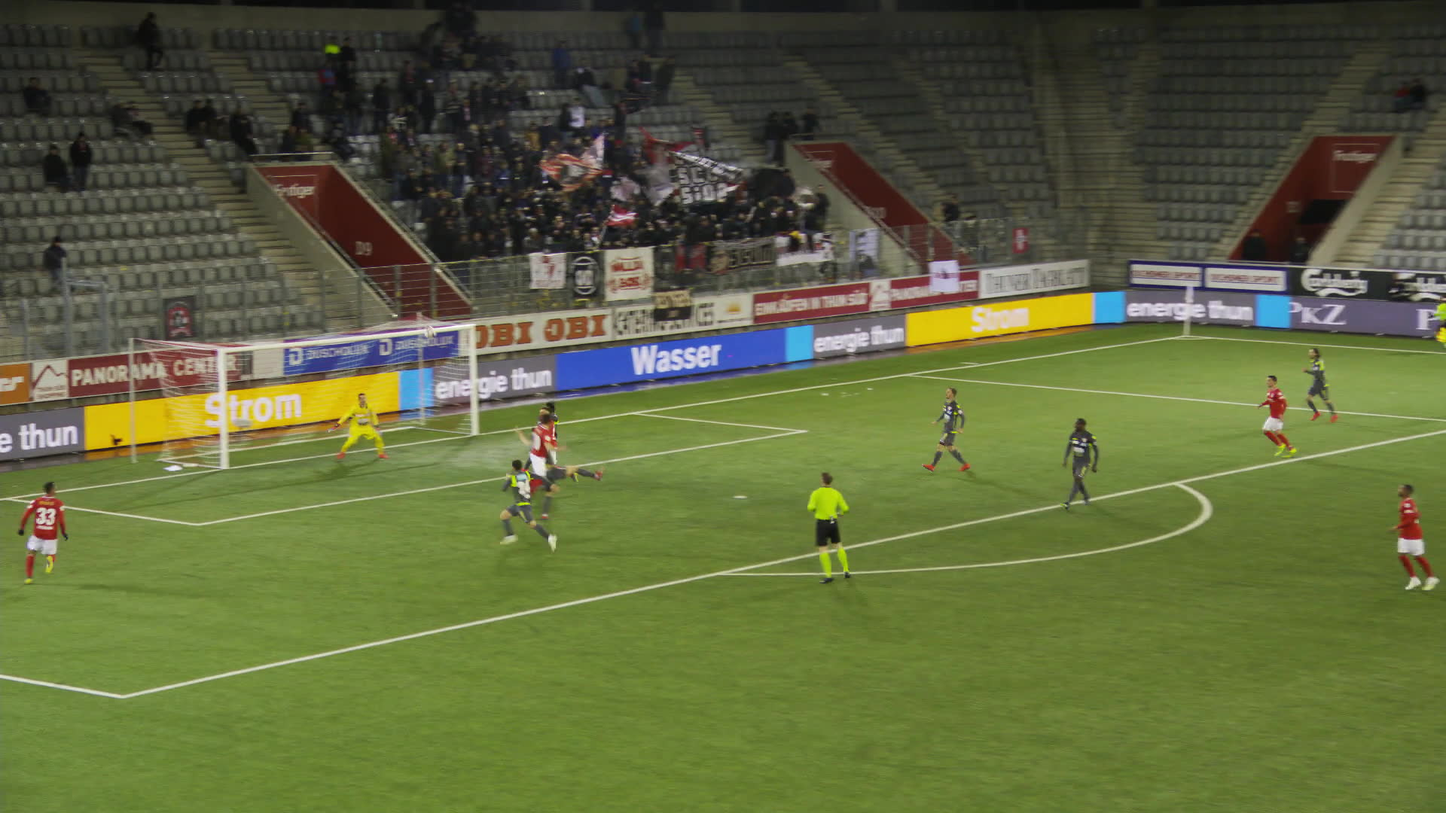ball: (423, 324, 438, 341)
player: (510, 421, 607, 520), (1385, 477, 1440, 594), (12, 477, 69, 589), (498, 455, 559, 558), (918, 380, 973, 477), (1052, 413, 1103, 512), (513, 410, 569, 499), (523, 402, 580, 489), (325, 388, 390, 464), (529, 398, 579, 486), (1252, 370, 1297, 461), (1295, 343, 1340, 427)
referee: (801, 469, 857, 586), (1426, 292, 1445, 357)
